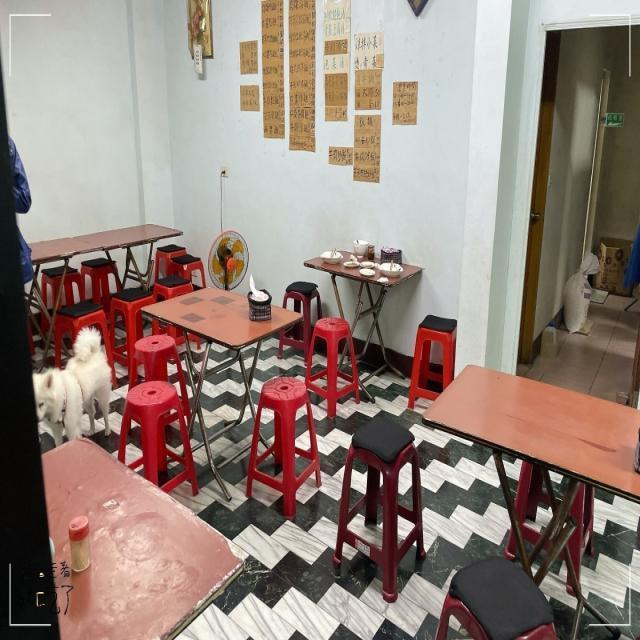table: (420, 334, 640, 633), (30, 417, 254, 635), (124, 276, 330, 467), (23, 202, 188, 336), (315, 220, 443, 342)
